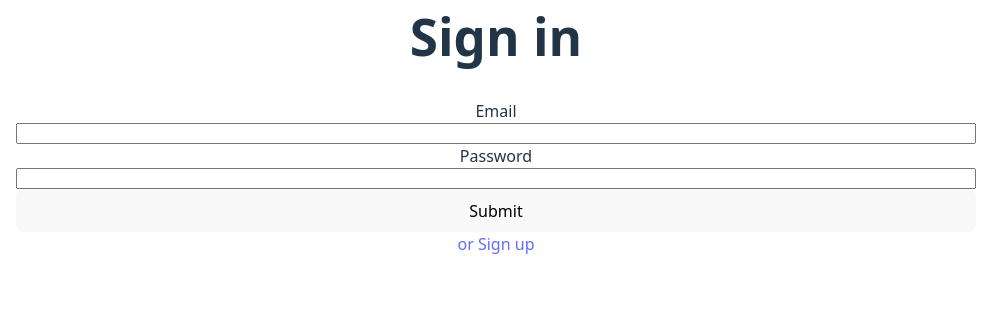
Scenario: Signin › displays error message when signin fails
In the field labelled "Email": (496, 133) [16,123,976,144], type "test@example.com"
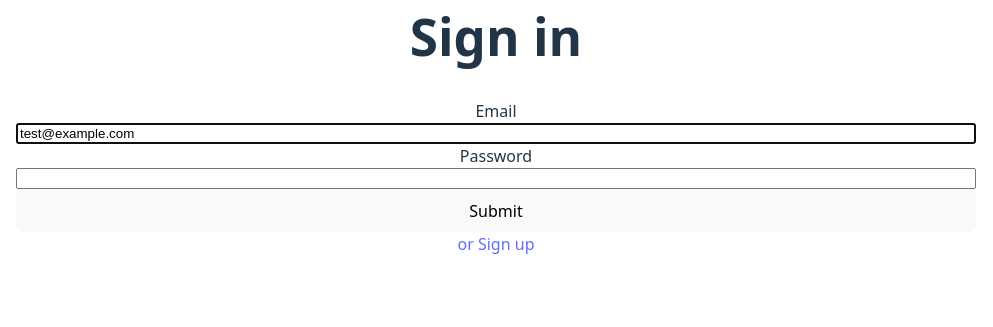
In the password field labelled "Password": (496, 178) [16,168,976,189], type "wrongpassword"
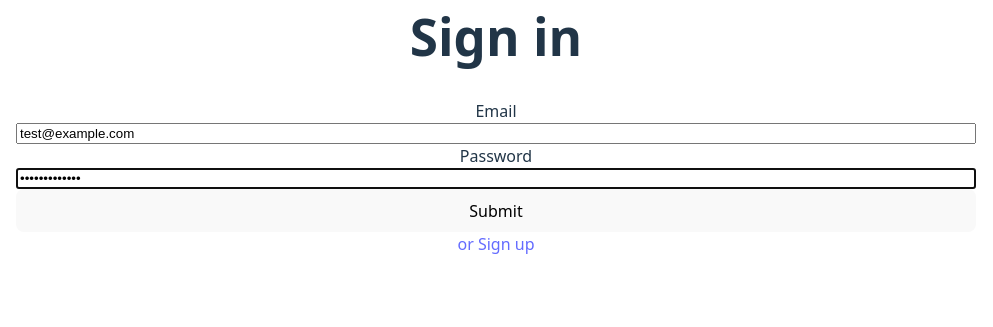
Click the button "Submit": click(496, 210) [16,189,976,232]
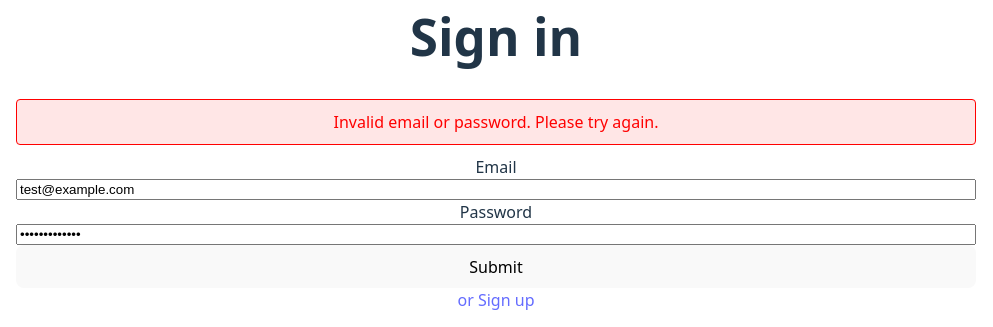
expect the text "Invalid email or password. Please try again." is shown: met, box [16,99,976,145]
